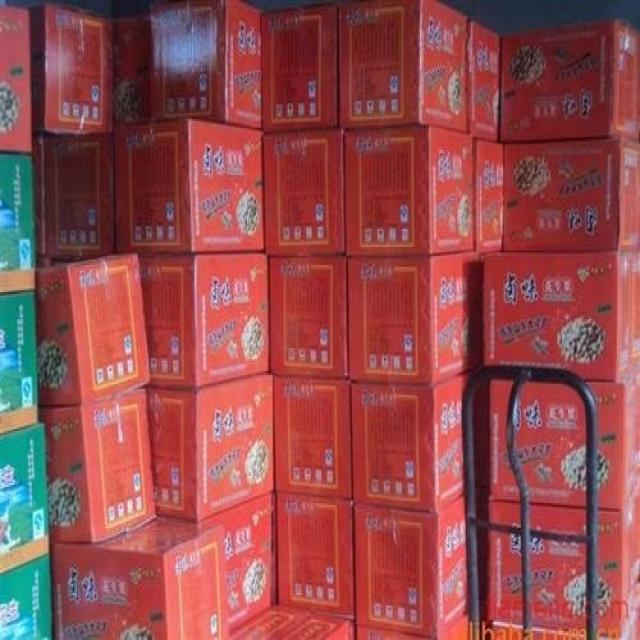box: (114, 117, 266, 258), (54, 517, 228, 640), (484, 247, 640, 382), (348, 364, 483, 514), (37, 388, 156, 544), (143, 377, 273, 519), (137, 252, 271, 389), (347, 252, 485, 384), (36, 254, 152, 407), (343, 124, 476, 256), (499, 18, 640, 142), (337, 0, 468, 132), (352, 496, 467, 640), (503, 133, 640, 251), (151, 0, 262, 130), (29, 4, 114, 135), (262, 124, 344, 256), (201, 492, 273, 640), (266, 252, 349, 380), (273, 492, 353, 624), (271, 373, 352, 499), (261, 5, 337, 130), (45, 123, 115, 256), (513, 384, 585, 507), (584, 370, 640, 510), (0, 424, 50, 575), (598, 481, 640, 640), (530, 537, 586, 635), (0, 290, 38, 434), (0, 155, 36, 294), (228, 604, 355, 640), (0, 5, 31, 151), (0, 555, 50, 640), (468, 18, 502, 141), (113, 14, 151, 121), (486, 525, 525, 626), (489, 380, 520, 501), (474, 135, 503, 252), (530, 503, 586, 535), (355, 624, 435, 640), (488, 501, 521, 526), (436, 620, 468, 640), (493, 622, 524, 640)
